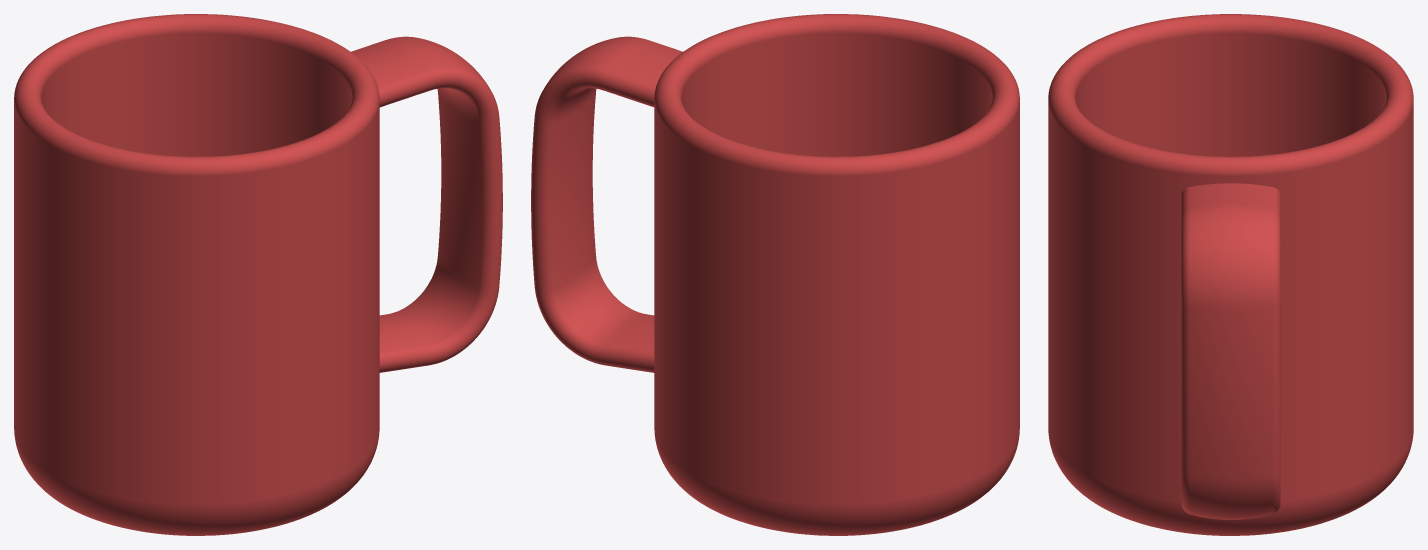
File: mug.glb
3 views of the same model, side by side, from view 1: azimuth 30°, elevation 25°; view 2: azimuth 150°, elevation 25°; view 3: azimuth 270°, elevation 25° (orthographic).
Bounding box in the file's own units: 0.1133 × 0.095 × 0.08.
